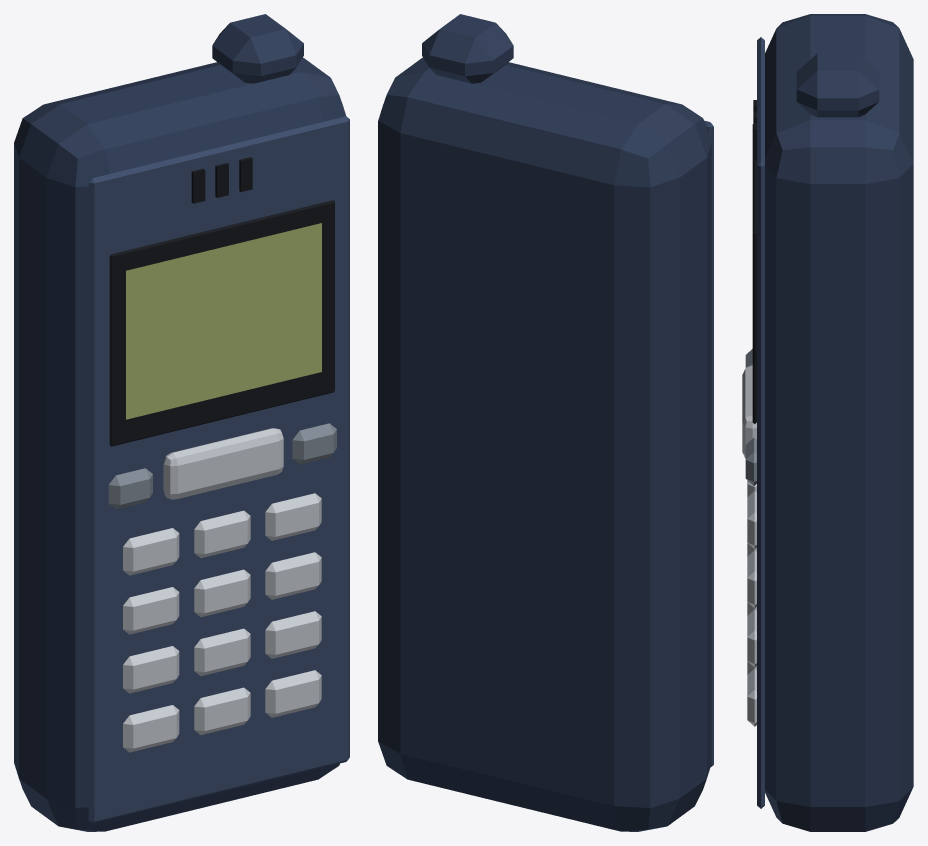
File: celular.glb
3 renders of one model, left to right at view 1: azimuth 30°, elevation 25°; view 2: azimuth 150°, elevation 25°; view 3: azimuth 270°, elevation 25°, orthographic.
Visible parts, largest first — view 1: Aparelho, Tela; view 2: Aparelho; view 3: Aparelho.
Boxes of the visible parts, x1,y1,x2,y2 form: Aparelho: (14, 14, 349, 831); Tela: (126, 223, 321, 419); Aparelho: (378, 14, 713, 831); Aparelho: (742, 14, 913, 831).
Bounding box in the file's own units: 0.5 × 1.21 × 0.249.
